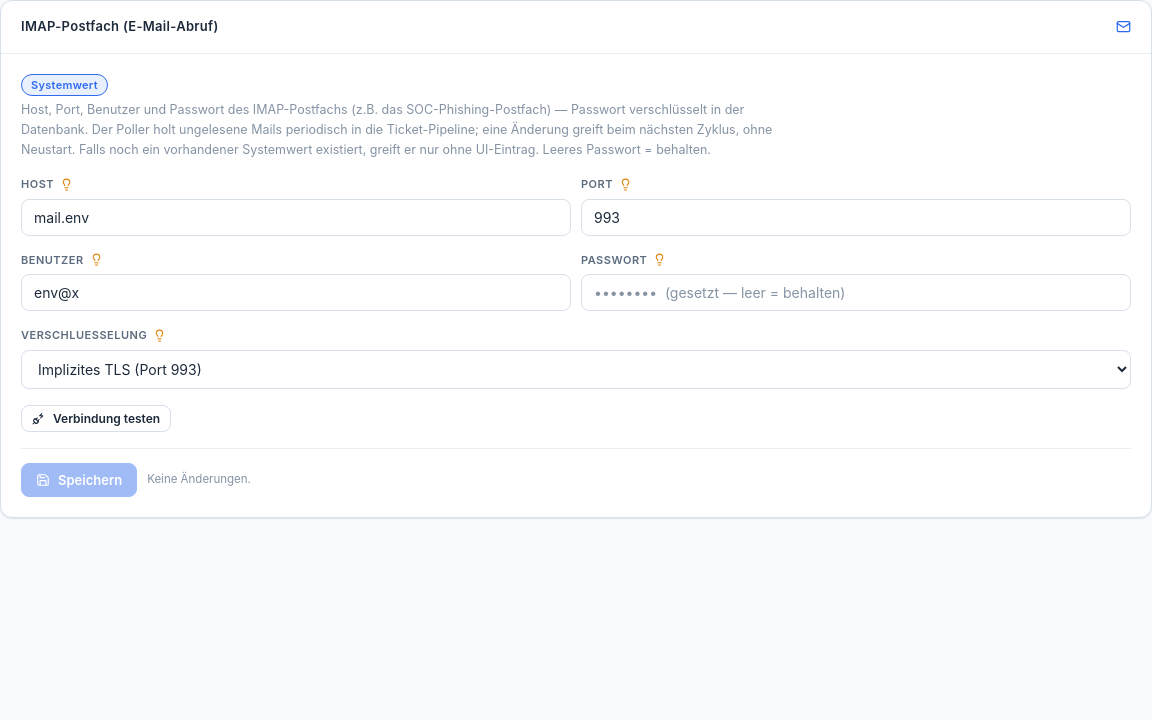
Test: ImapConnectionCard (via connectionCardKit) › zeigt direkte Feldhilfe mit echten Beispielwerten
Expected: the text "Systemwert" is shown, [21, 74, 108, 96]
Hover over the 1st button named "Host erklaeren": (66, 184) [60, 178, 73, 191]
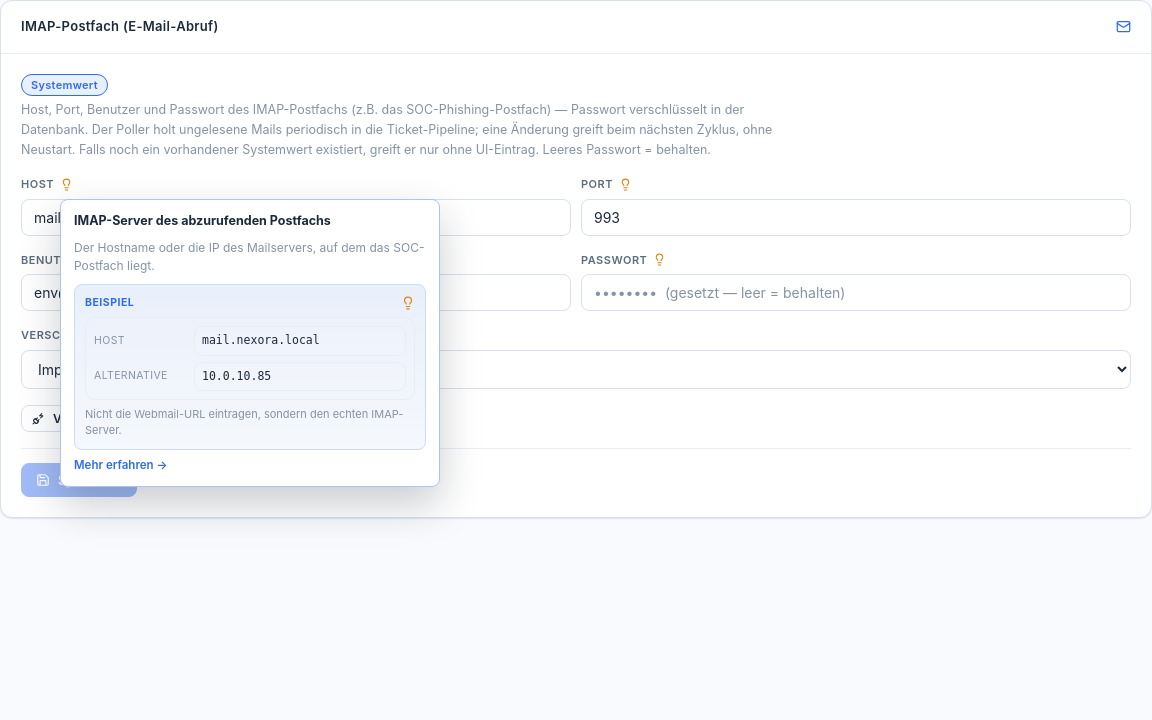
Now the text "IMAP-Server des abzurufenden Postfachs" is shown, box [74, 213, 331, 228]
Now the text "mail.nexora.local" is shown, box [194, 326, 406, 356]
